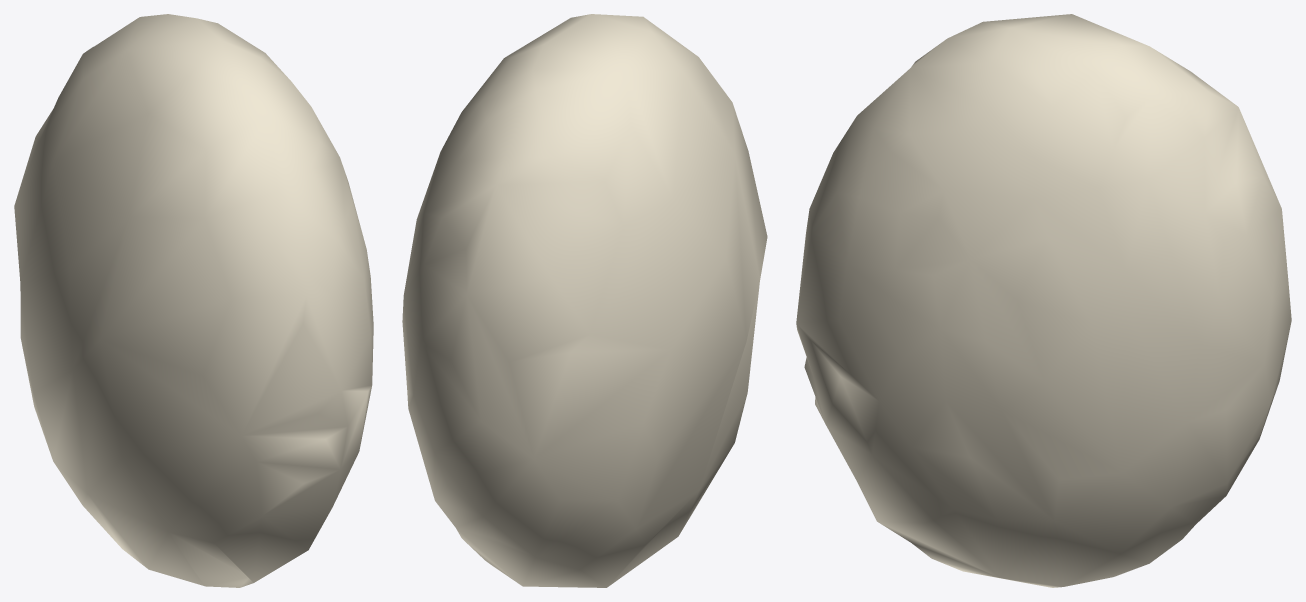
The model's file is patella_l.glb.
3 renders of one model, left to right at view 1: azimuth 30°, elevation 25°; view 2: azimuth 150°, elevation 25°; view 3: azimuth 270°, elevation 25°, orthographic. The views are drawn at different scales.
Parts seen in each view (by area): view 1: geometry_0; view 2: geometry_0; view 3: geometry_0.
Boxes of the visible parts, box(x1,y1,x2,y2) form: geometry_0: box(14, 14, 373, 587); geometry_0: box(402, 14, 767, 587); geometry_0: box(796, 14, 1291, 587).
Bounding box in the file's own units: 0.0539 × 0.1015 × 0.0807.
